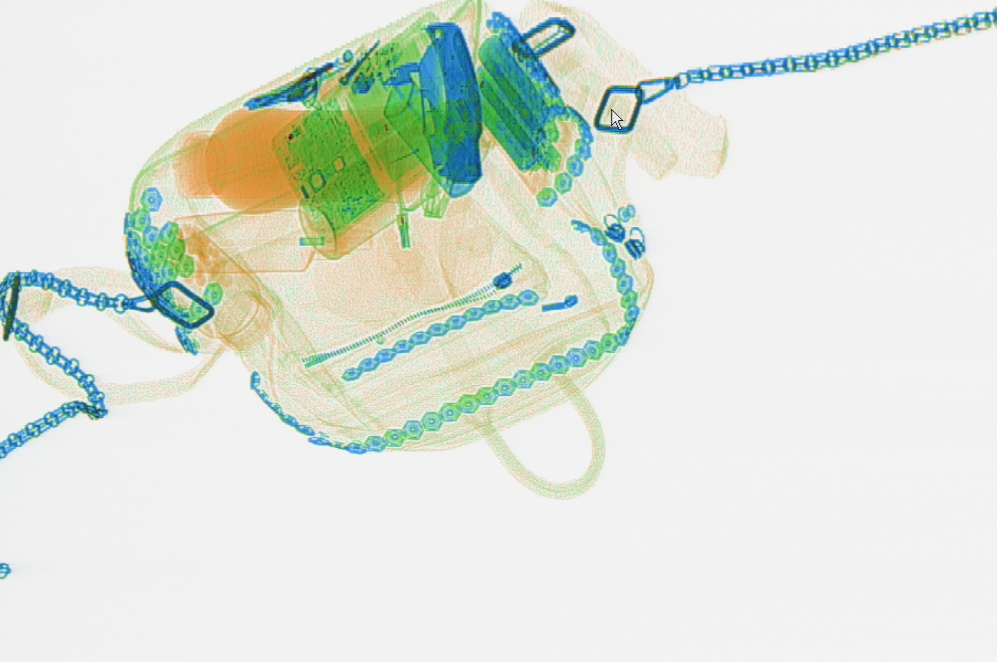knife: (407, 16, 484, 198)
powerbank: (464, 29, 579, 201)
pressure: (289, 95, 503, 264)
